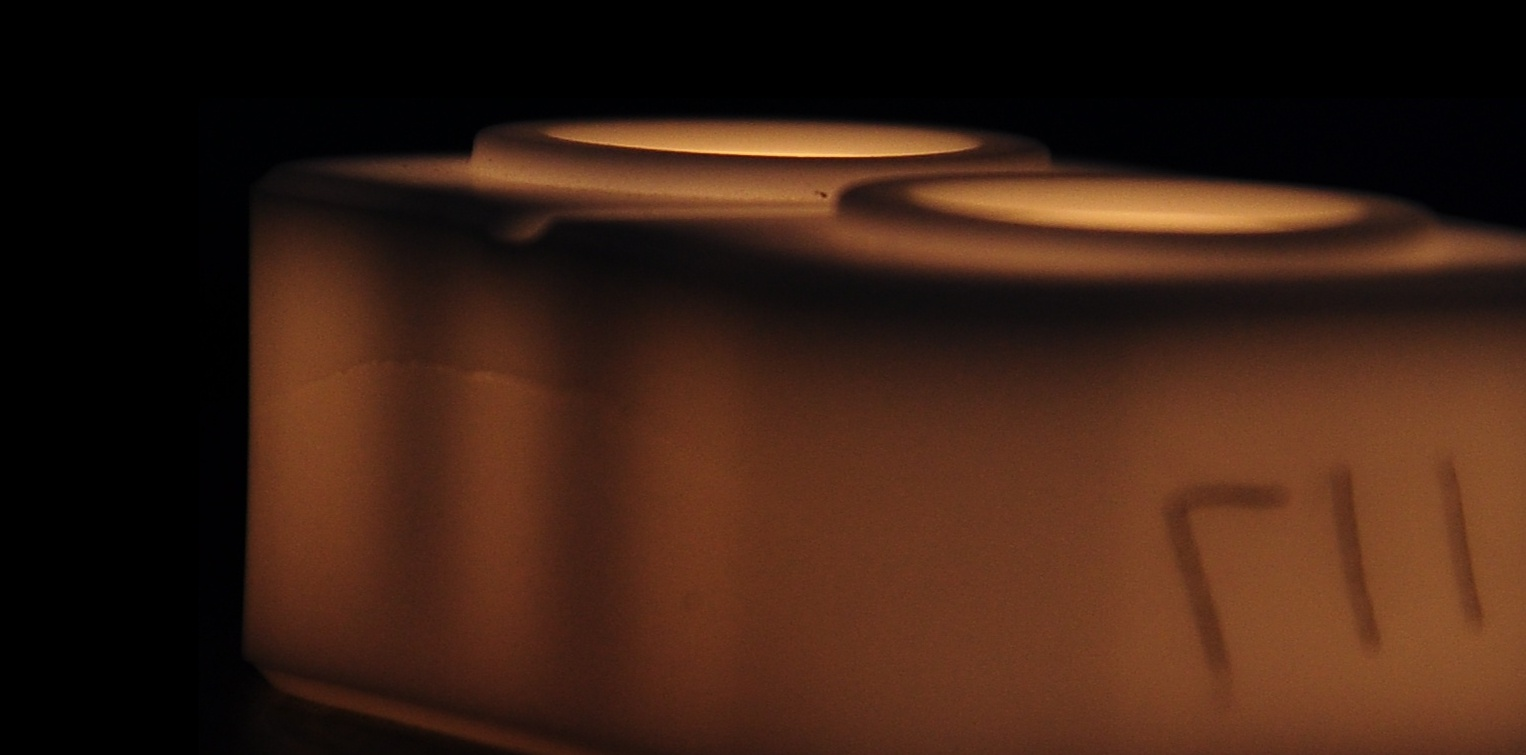flaw: (254, 336, 727, 451)
protrusion: (807, 179, 832, 203)
